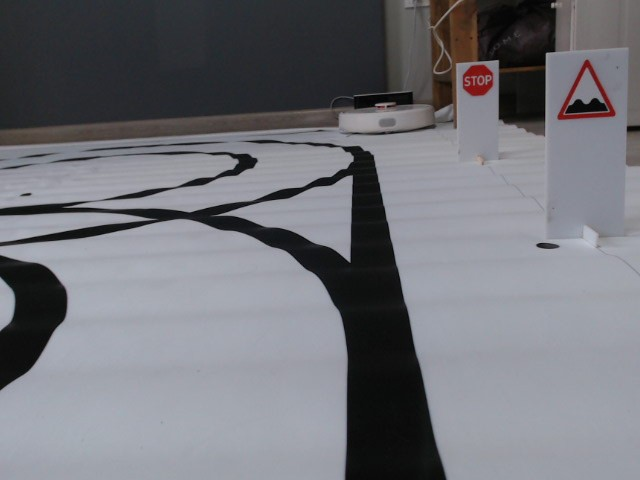Nerov: (556, 58, 616, 121)
